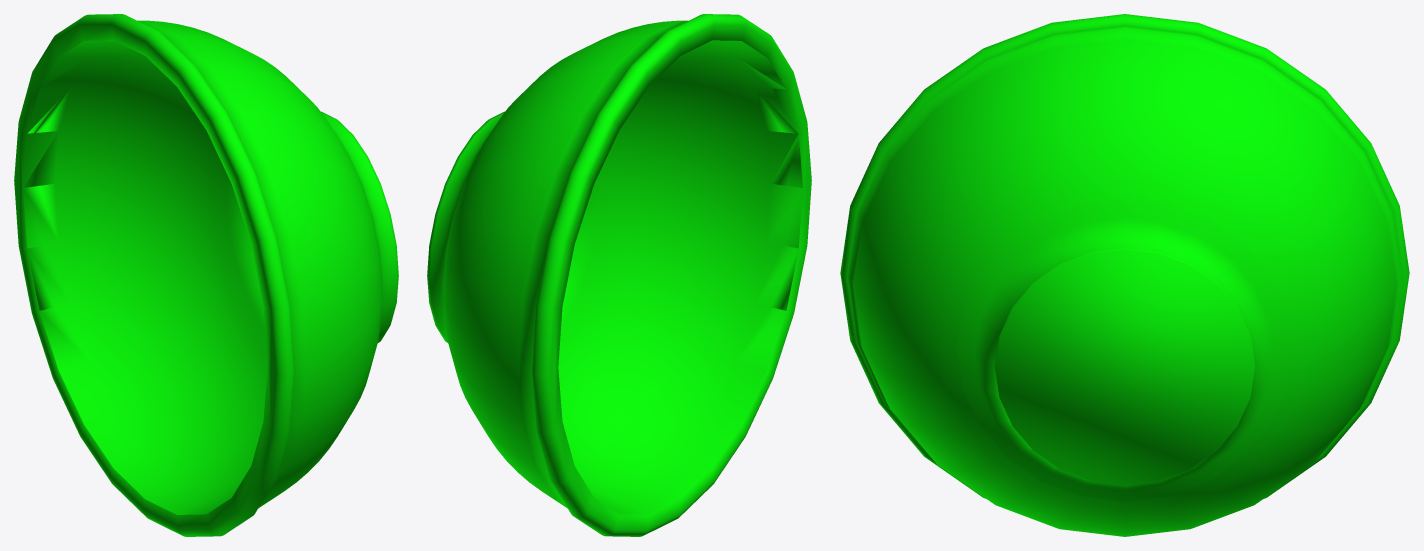
Rendered from bowl1_1.dae.
3 views of the same model, side by side, from view 1: azimuth 30°, elevation 25°; view 2: azimuth 150°, elevation 25°; view 3: azimuth 270°, elevation 25° (orthographic). The views are drawn at different scales.
Visible parts, largest first — view 1: bowl1; view 2: bowl1; view 3: bowl1.
Boxes of the visible parts, <box> form: bowl1: <box>14,14,398,536</box>; bowl1: <box>427,14,811,536</box>; bowl1: <box>840,14,1409,536</box>.
Size of the model in its own units: 0.0894 by 0.217 by 0.217.
